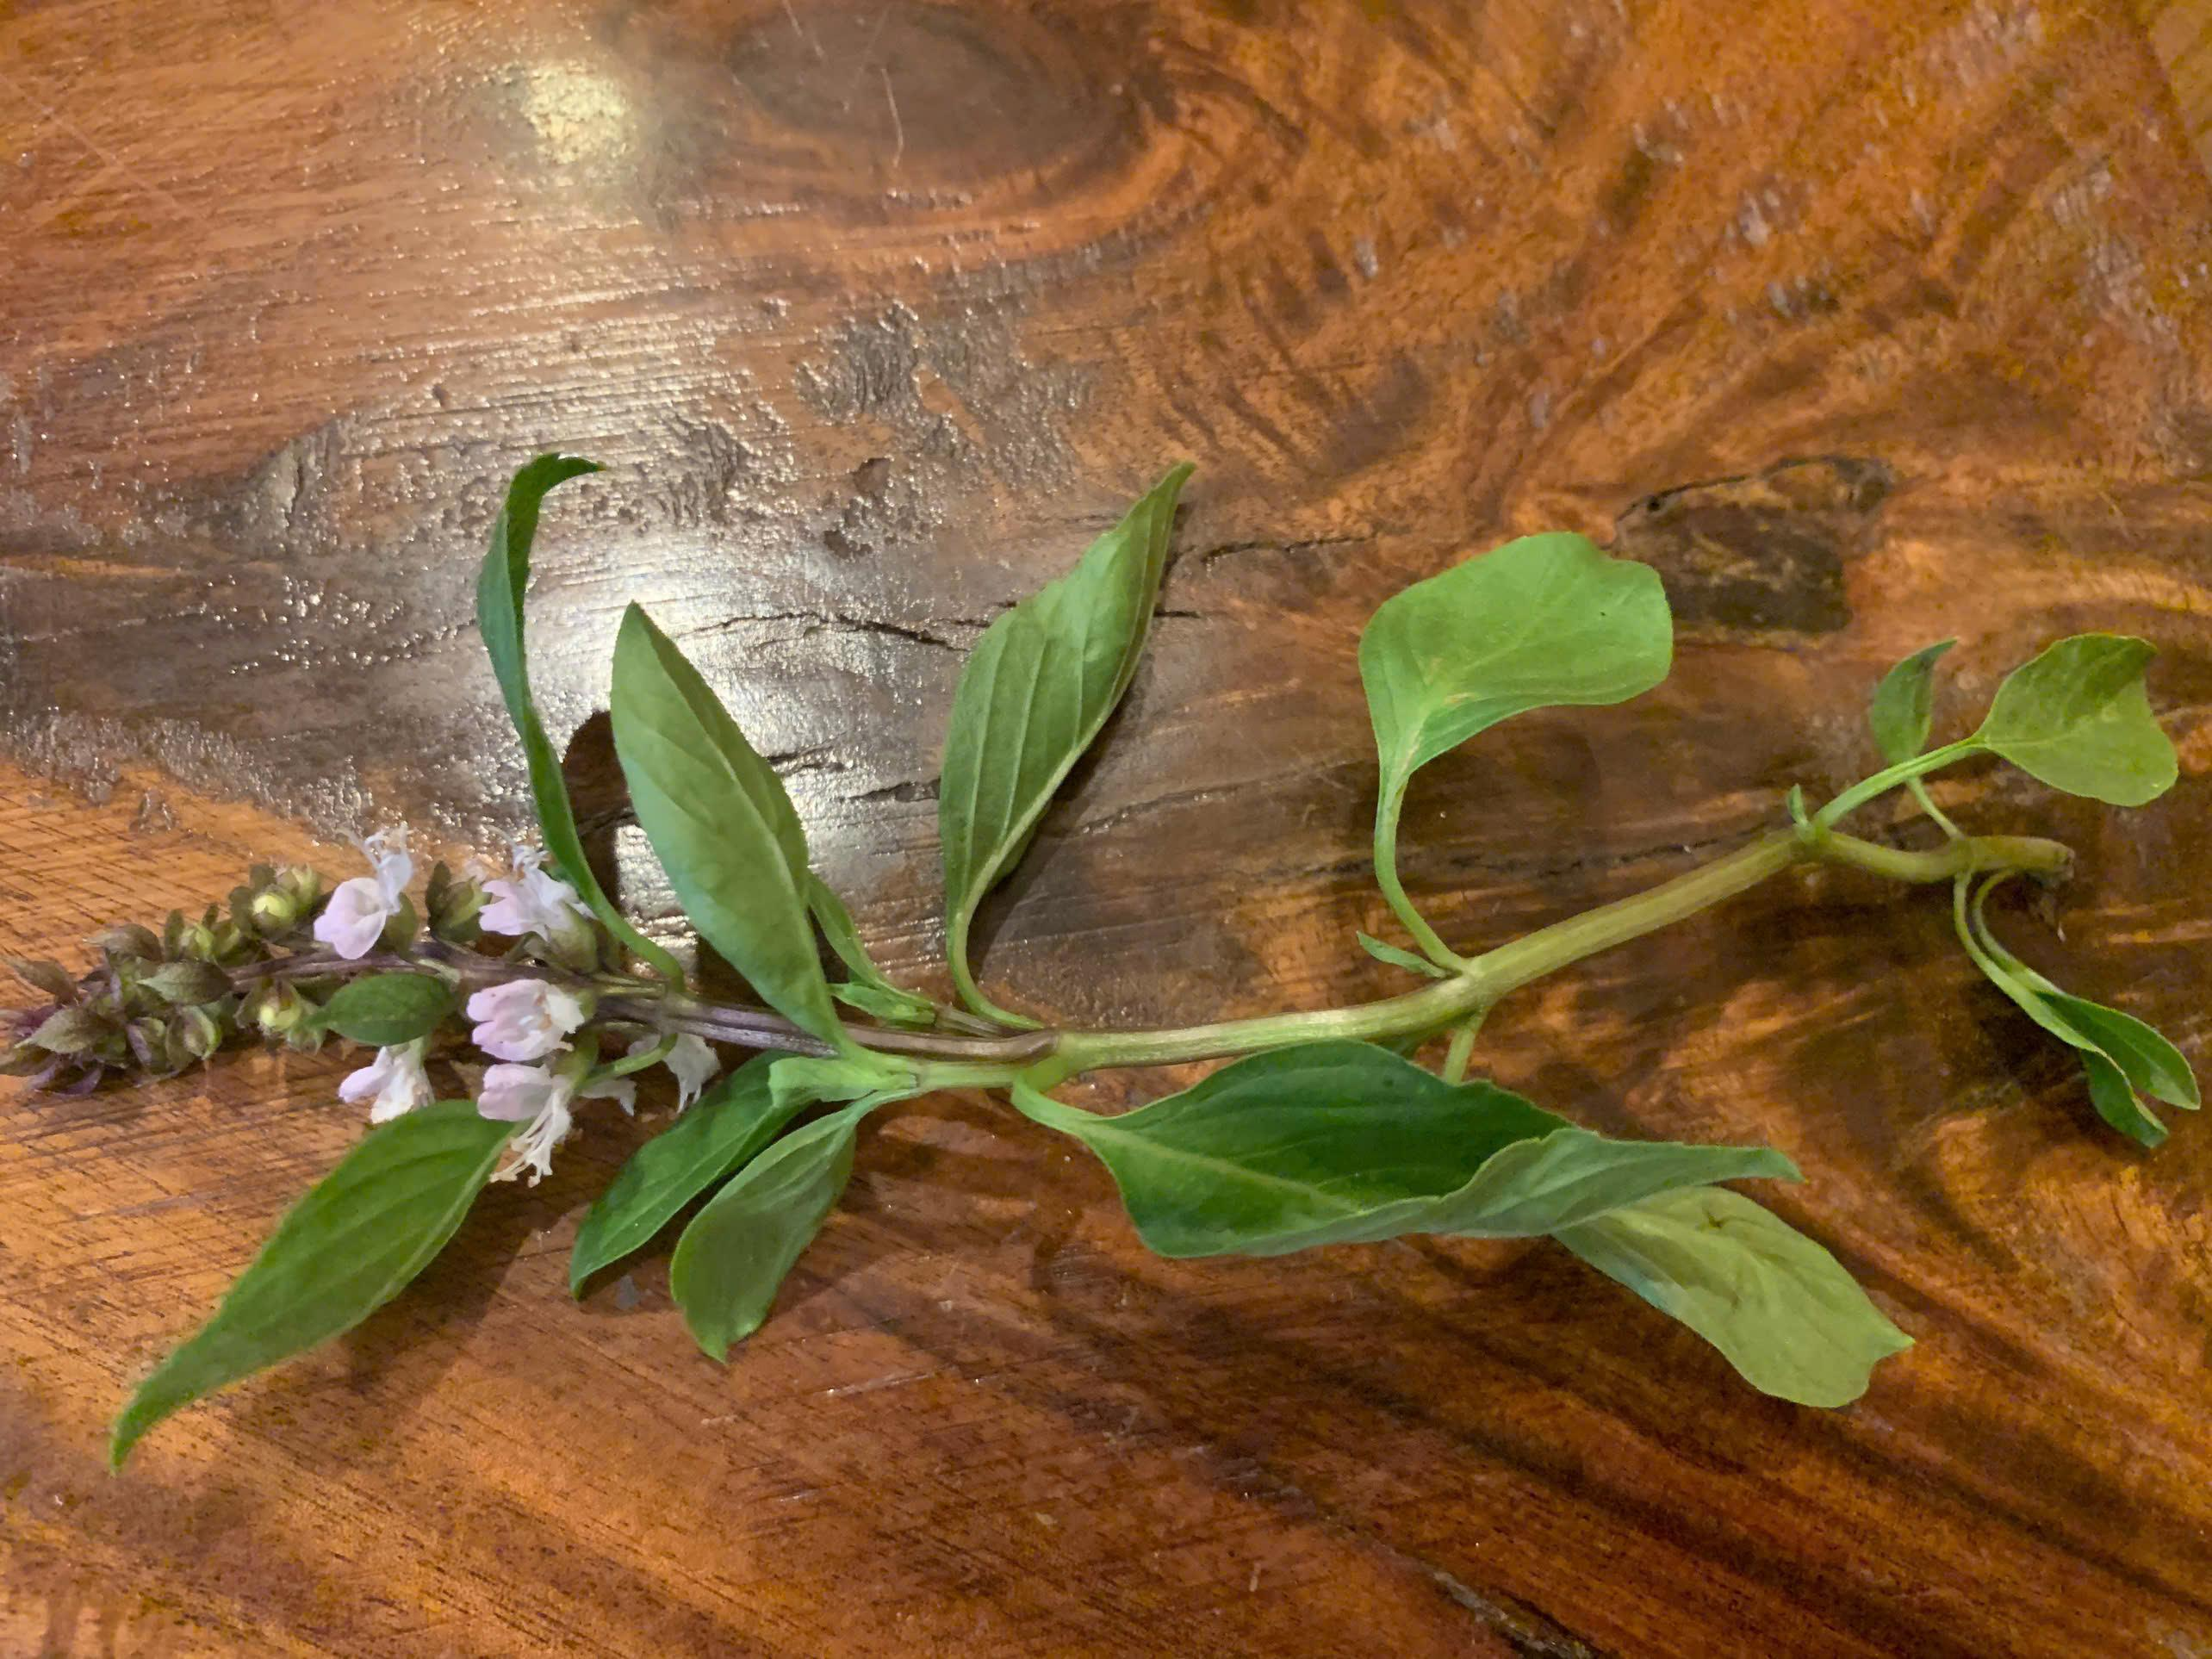Huu co: (169, 537, 2188, 1410)
